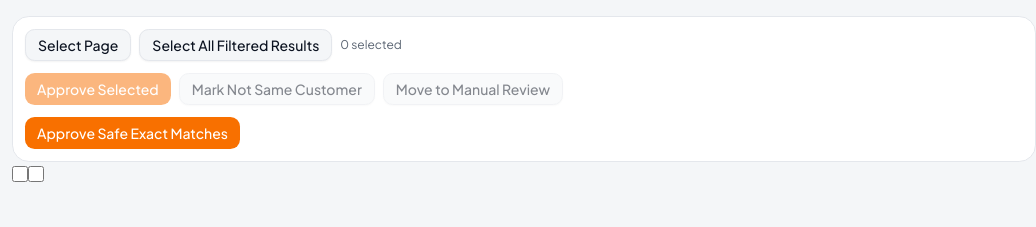
Test: QuickBooks review selection › handles a successful bulk result once without a replace/refresh feedback loop
This screenshot has width=1036, height=227.
Click the button "Select All Filtered Results" at (236, 45), box [139,29,332,61]
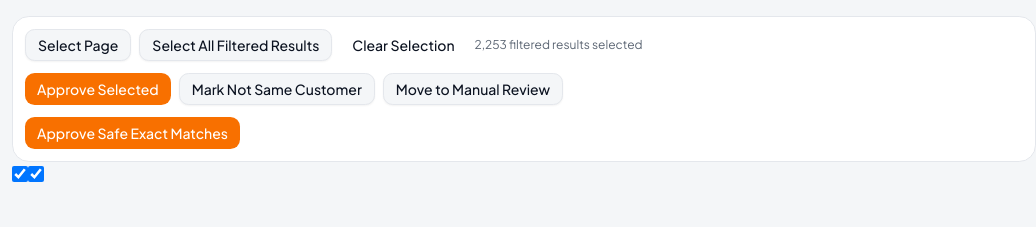
Click the button "Approve Selected" at (98, 89), box [25,73,171,105]
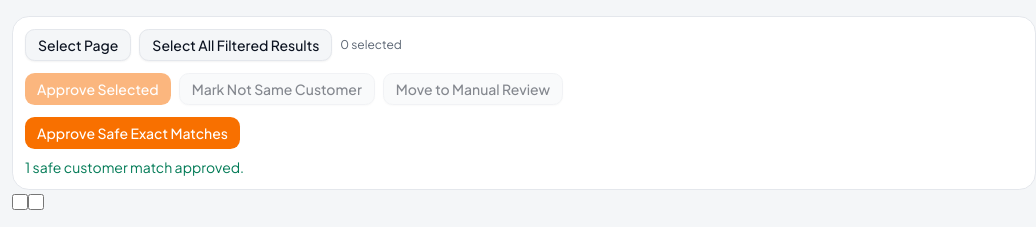
Expected: the text "1 safe customer match approved." is shown, [25,158,244,176]
